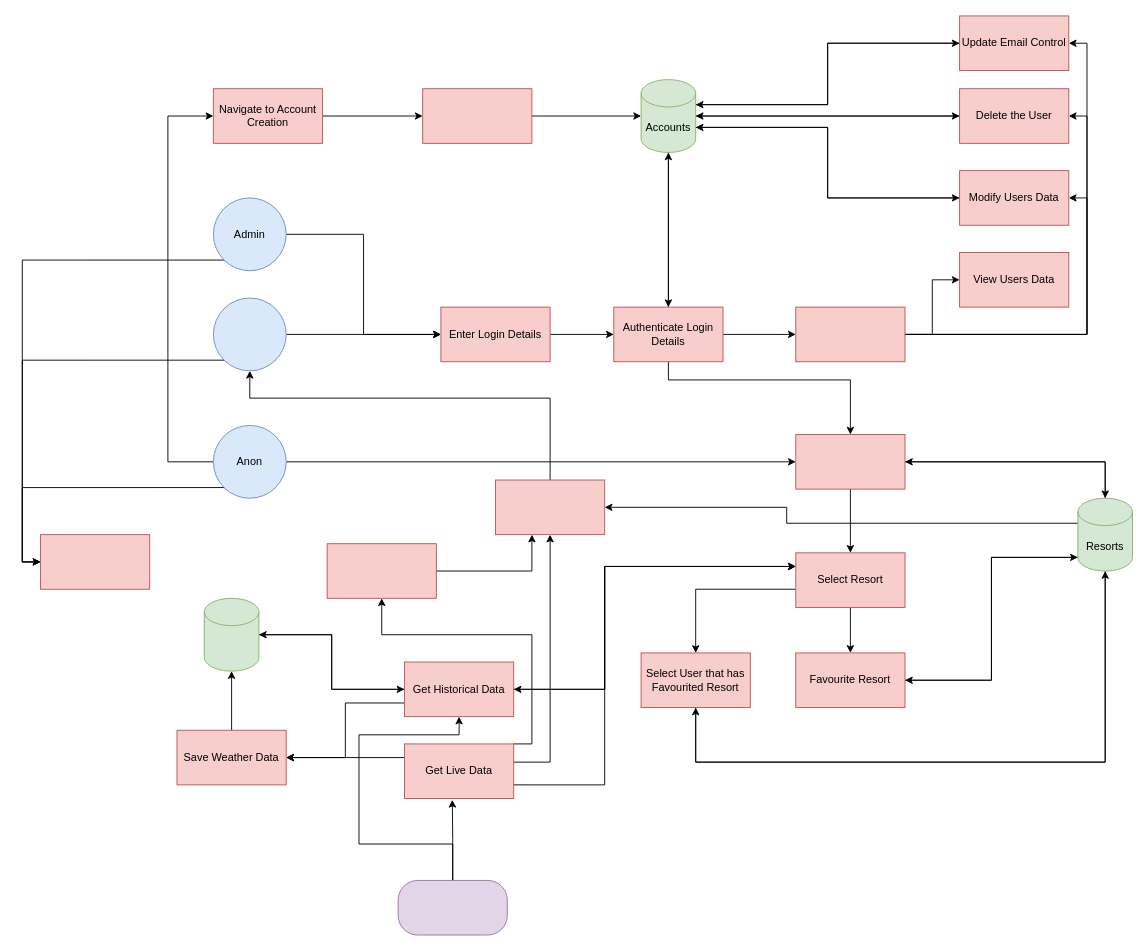
This 1148x951 diagram has some shape labels left out. The centre of each missing label's shape, as x and y in pixels:
"Enter Account Details" goes at point (477, 115).
"Install PWA" goes at point (95, 561).
"Navigate to List of Resorts" goes at point (850, 461).
"Navigate to Users Profile" goes at point (850, 334).
"OpenWeatherMap API" goes at point (452, 907).
"Score Weather Data" goes at point (381, 570).
"Send Email on Selected Resorts" goes at point (550, 507).
"User" goes at point (249, 334).
"Weather" goes at point (231, 634).
